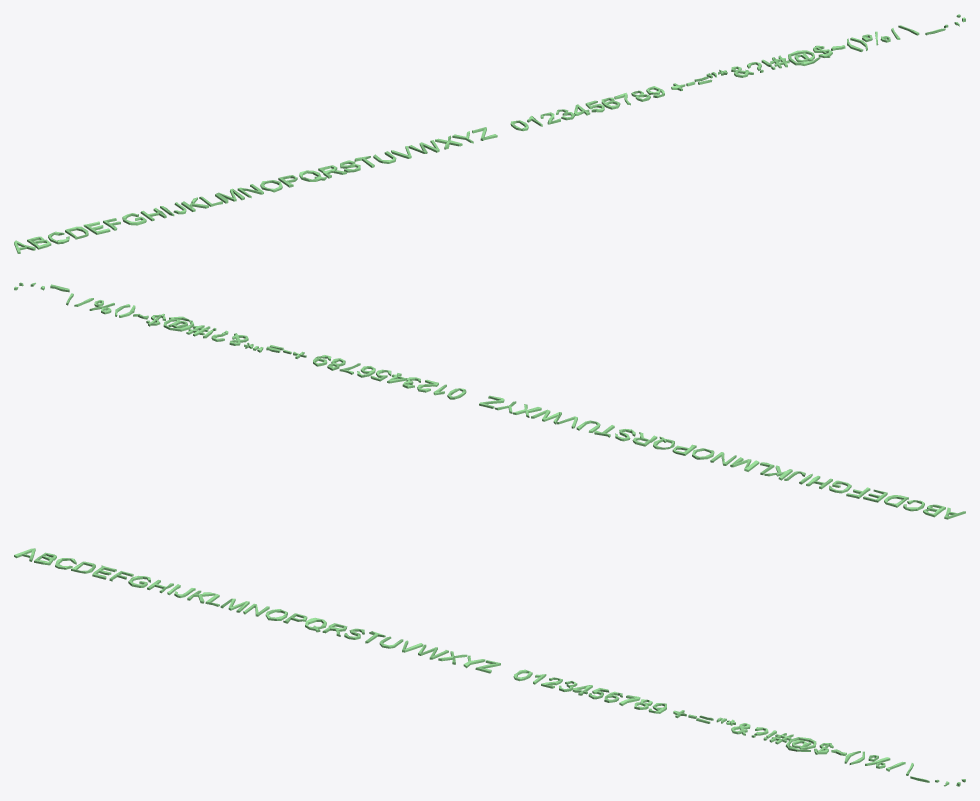
File: LowPolySymbols.obj
The picture shows the model from 3 angles, top to bottom: view 1: azimuth 30°, elevation 25°; view 2: azimuth 150°, elevation 25°; view 3: azimuth 330°, elevation 25°; orthographic projection.
Visible parts, largest first — view 1: _; view 2: _; view 3: _.
Boxes of the visible parts, x1,y1,x2,y2 form: _: [671, 14, 965, 90]; _: [14, 282, 306, 358]; _: [673, 710, 965, 786].
Size of the model in its own units: 3119 by 13.18 by 93.42.
